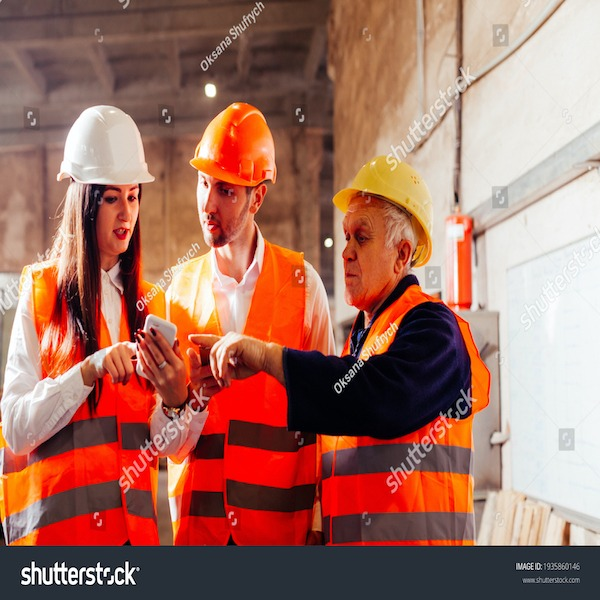helmet: (190, 100, 283, 186), (68, 110, 152, 196), (335, 159, 442, 214)
vest: (169, 247, 321, 549), (9, 276, 171, 549), (326, 304, 483, 540)
